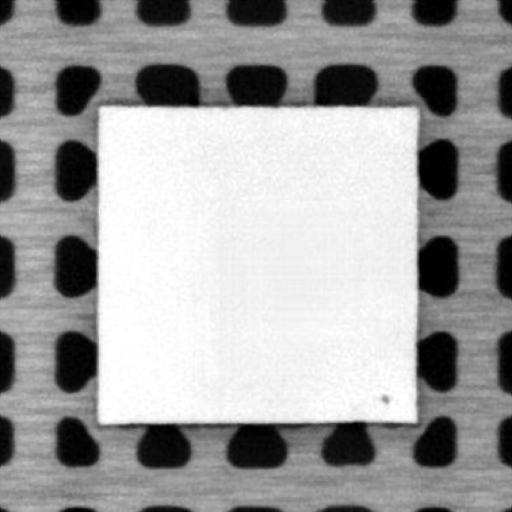DIE_INK: (378, 392, 391, 402)
